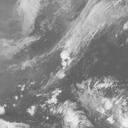cyclone: (31, 42, 86, 107)
